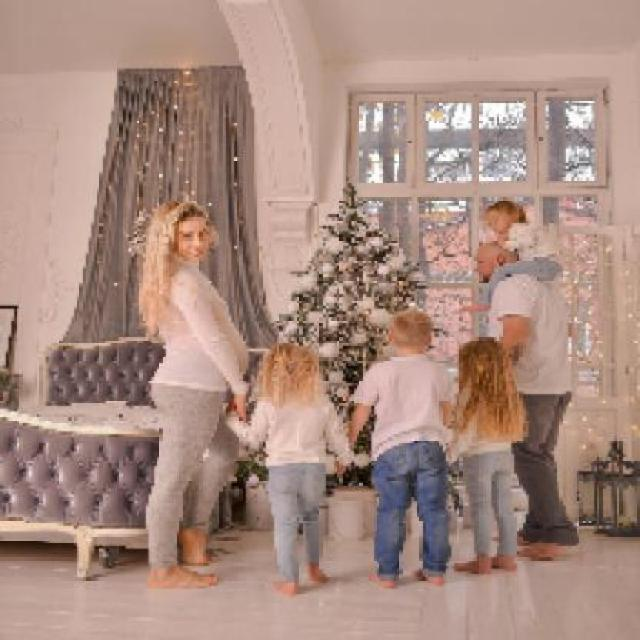child: (219, 340, 355, 597), (346, 308, 454, 588), (447, 332, 530, 572), (457, 196, 566, 313)
